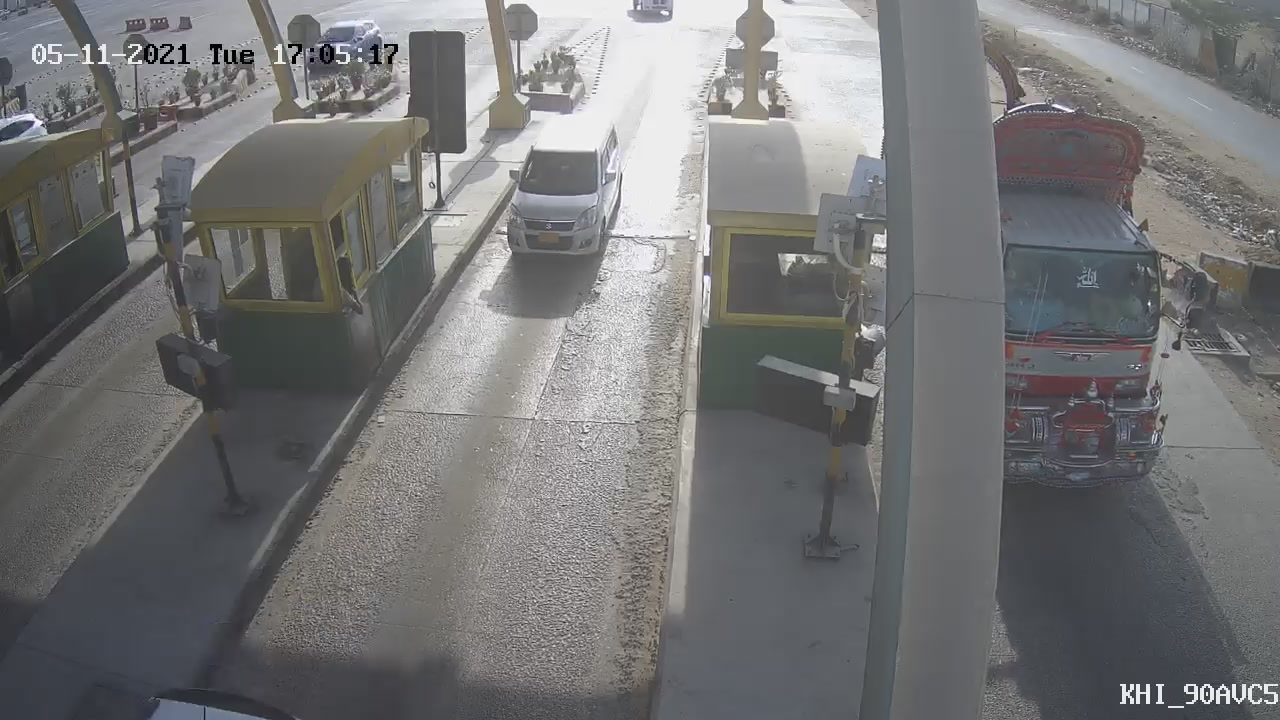F1: (484, 101, 636, 279)
